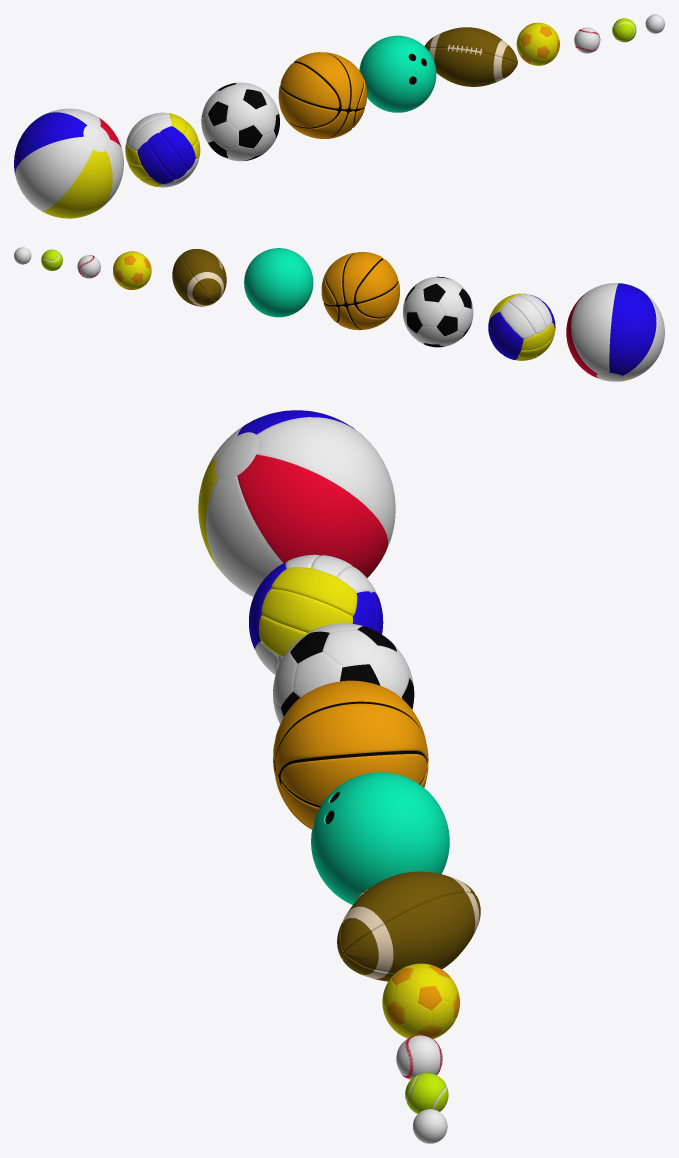
File: Balls.fbx
The picture shows the model from 3 angles, top to bottom: view 1: azimuth 30°, elevation 25°; view 2: azimuth 150°, elevation 25°; view 3: azimuth 270°, elevation 25°; orthographic projection. The views are drawn at different scales.
Parts seen in each view (by area): view 1: beach_ball_beach_ball_red_0_beach_ball_red_0, basket_ball_basket_ball_black_basket_0_basket_ball_black_bas, soccer_ball_soccer_ball_black_soccer_0_soccer_ball_black_soc, bowling_ball_bowling_ball_holes_0_bowling_ball_holes_0, polySurface2, football_football_football_001_0_football_football_001_0, polySurface13, baseball_baseball_baseball_red_0_baseball_baseball_red_0, tennis_ball_tennis_ball_green_tennis_0_tennis_ball_green_ten; view 2: beach_ball_beach_ball_red_0_beach_ball_red_0, basket_ball_basket_ball_black_basket_0_basket_ball_black_bas, soccer_ball_soccer_ball_black_soccer_0_soccer_ball_black_soc, bowling_ball_bowling_ball_holes_0_bowling_ball_holes_0, polySurface2, football_football_football_001_0_football_football_001_0, polySurface13, baseball_baseball_baseball_red_0_baseball_baseball_red_0, tennis_ball_tennis_ball_green_tennis_0_tennis_ball_green_ten, Icosphere_0; view 3: beach_ball_beach_ball_red_0_beach_ball_red_0, basket_ball_basket_ball_black_basket_0_basket_ball_black_bas, bowling_ball_bowling_ball_holes_0_bowling_ball_holes_0, football_football_football_001_0_football_football_001_0, polySurface2, soccer_ball_soccer_ball_black_soccer_0_soccer_ball_black_soc, polySurface13, baseball_baseball_baseball_red_0_baseball_baseball_red_0, tennis_ball_tennis_ball_green_tennis_0_tennis_ball_green_ten.
Part boxes in pixels (x1,y1,x2,y2): beach_ball_beach_ball_red_0_beach_ball_red_0: [14, 108, 123, 218]; basket_ball_basket_ball_black_basket_0_basket_ball_black_bas: [278, 52, 366, 138]; soccer_ball_soccer_ball_black_soccer_0_soccer_ball_black_soc: [201, 82, 279, 161]; bowling_ball_bowling_ball_holes_0_bowling_ball_holes_0: [359, 35, 436, 112]; polySurface2: [125, 112, 200, 187]; football_football_football_001_0_football_football_001_0: [424, 27, 517, 86]; polySurface13: [516, 22, 559, 65]; baseball_baseball_baseball_red_0_baseball_baseball_red_0: [574, 27, 600, 53]; tennis_ball_tennis_ball_green_tennis_0_tennis_ball_green_ten: [612, 18, 636, 42]; beach_ball_beach_ball_red_0_beach_ball_red_0: [566, 283, 664, 381]; basket_ball_basket_ball_black_basket_0_basket_ball_black_bas: [321, 252, 399, 330]; soccer_ball_soccer_ball_black_soccer_0_soccer_ball_black_soc: [403, 276, 473, 347]; bowling_ball_bowling_ball_holes_0_bowling_ball_holes_0: [244, 248, 313, 317]; polySurface2: [488, 293, 555, 360]; football_football_football_001_0_football_football_001_0: [172, 249, 226, 306]; polySurface13: [113, 251, 151, 289]; baseball_baseball_baseball_red_0_baseball_baseball_red_0: [77, 255, 100, 278]; tennis_ball_tennis_ball_green_tennis_0_tennis_ball_green_ten: [41, 249, 62, 270]; Icosphere_0: [14, 247, 31, 264]; beach_ball_beach_ball_red_0_beach_ball_red_0: [198, 410, 395, 597]; basket_ball_basket_ball_black_basket_0_basket_ball_black_bas: [273, 680, 428, 829]; bowling_ball_bowling_ball_holes_0_bowling_ball_holes_0: [311, 772, 449, 904]; football_football_football_001_0_football_football_001_0: [337, 871, 480, 981]; polySurface2: [249, 554, 383, 675]; soccer_ball_soccer_ball_black_soccer_0_soccer_ball_black_soc: [273, 623, 414, 723]; polySurface13: [382, 963, 459, 1038]; baseball_baseball_baseball_red_0_baseball_baseball_red_0: [396, 1034, 442, 1079]; tennis_ball_tennis_ball_green_tennis_0_tennis_ball_green_ten: [405, 1072, 448, 1114].
Bounding box in the file's own units: 455 × 63.69 × 91.2.
